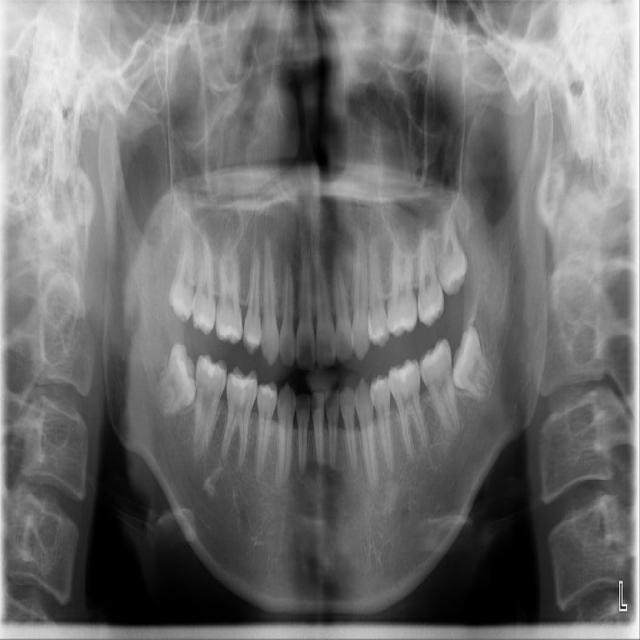3M ESPE Implant: (168, 225, 196, 323)
52: (381, 356, 432, 408), (224, 364, 261, 417), (195, 352, 228, 401), (215, 300, 243, 345)
73: (601, 570, 610, 576)
BioHorizons Implant: (417, 224, 446, 331)
BioLife Implant: (435, 200, 470, 298)
Biomet 3i Implant: (435, 324, 501, 410)
Blue Sky Bio Implant: (416, 336, 461, 441)
Caries: (190, 227, 220, 337)
Implant: (193, 352, 228, 458)
Keystone Dental Implant: (149, 339, 210, 425)
